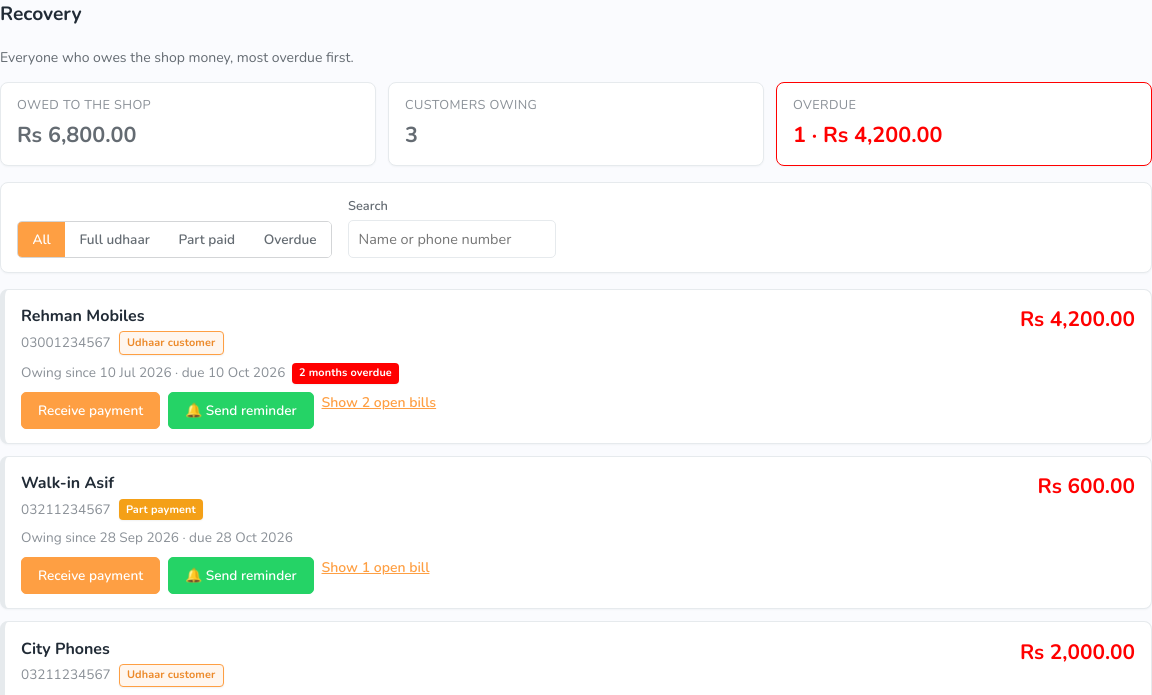
the recovery page › takes a payment and says what is left
Click the button "Receive payment" below "10 Jul 2026" at x=91, y=410, box [21, 392, 160, 429]
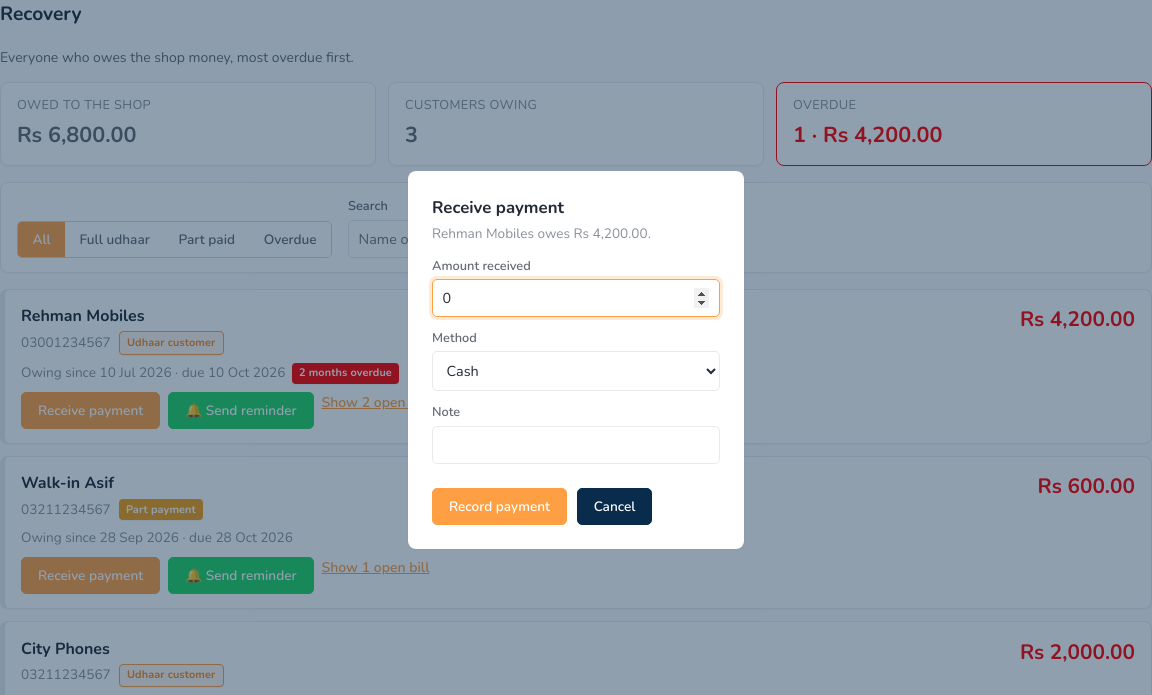
Replace the text in the number field labelled "Amount received" with "1000" at x=576, y=298, box [432, 279, 720, 317]
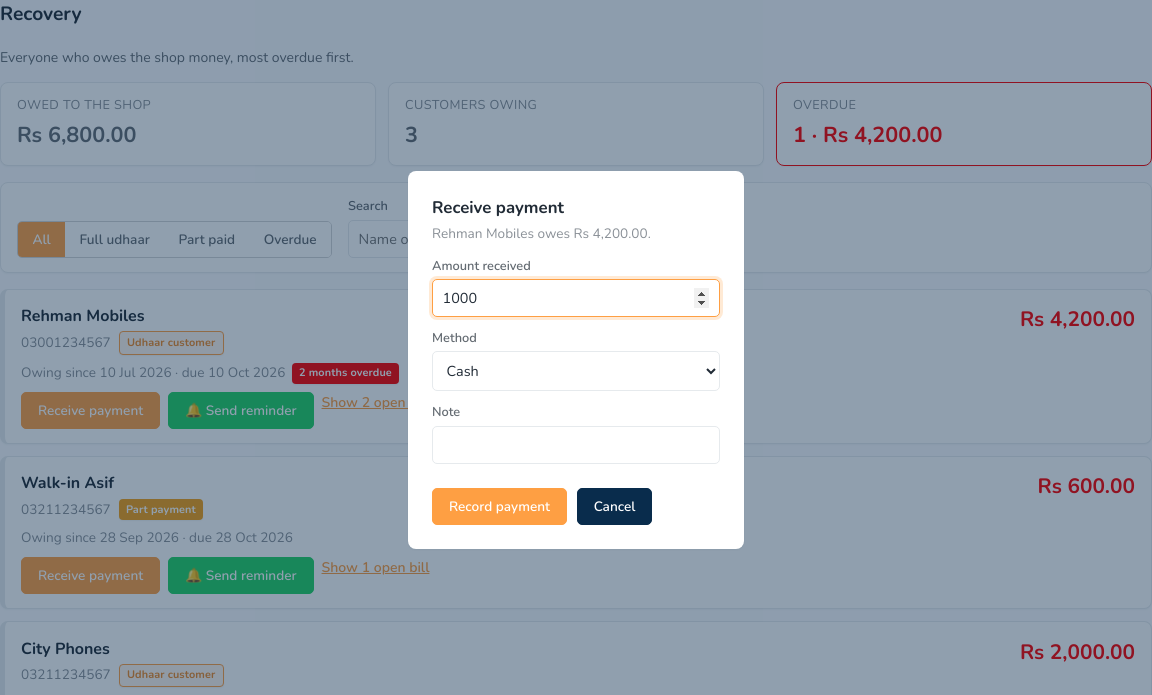
Click the button "Record payment" at x=500, y=506, box [432, 488, 567, 525]
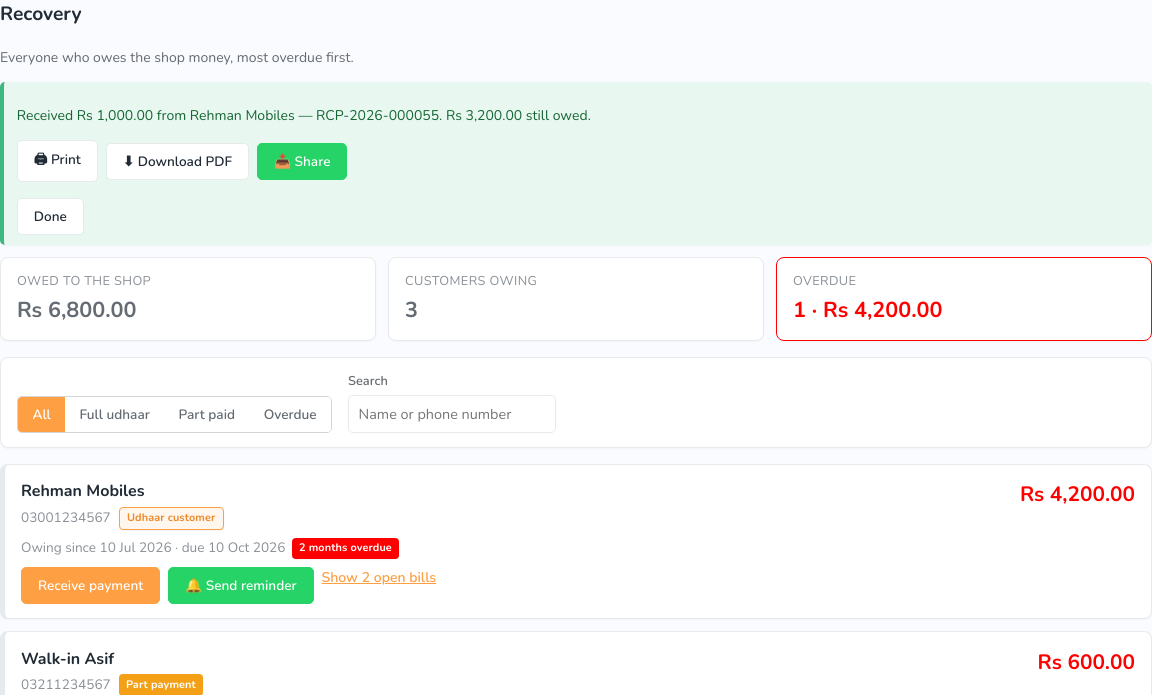
Now the message shows "Received Rs 1,000.00 from Rehman Mobiles", box [0, 82, 1151, 245]
Now the message shows "rs 3,200.00 still owed", box [446, 106, 591, 125]
